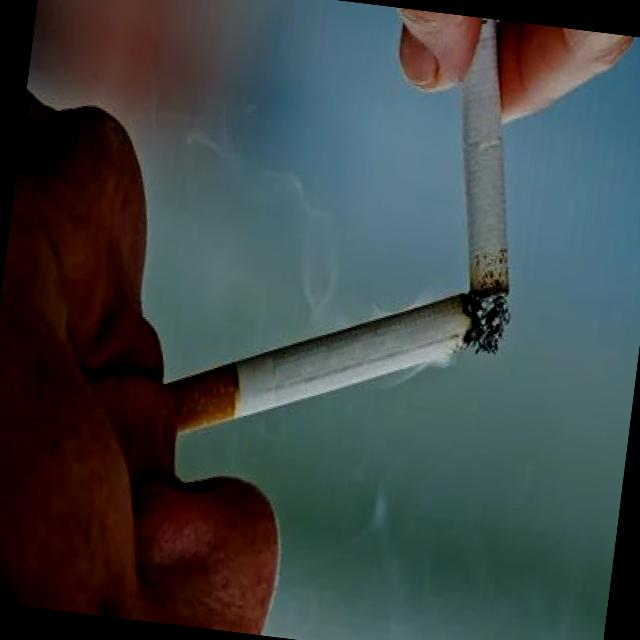smoke: (158, 258, 484, 478), (412, 16, 554, 358)
